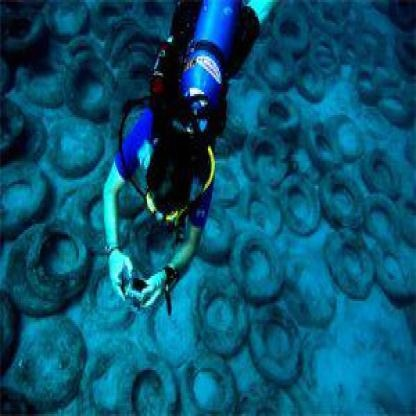tire: (27, 217, 95, 299), (194, 266, 257, 347), (229, 228, 294, 303), (244, 117, 297, 197), (278, 163, 328, 247), (47, 110, 108, 176), (60, 48, 116, 119), (258, 301, 305, 380), (319, 159, 367, 232), (326, 226, 373, 297), (262, 79, 300, 140)
